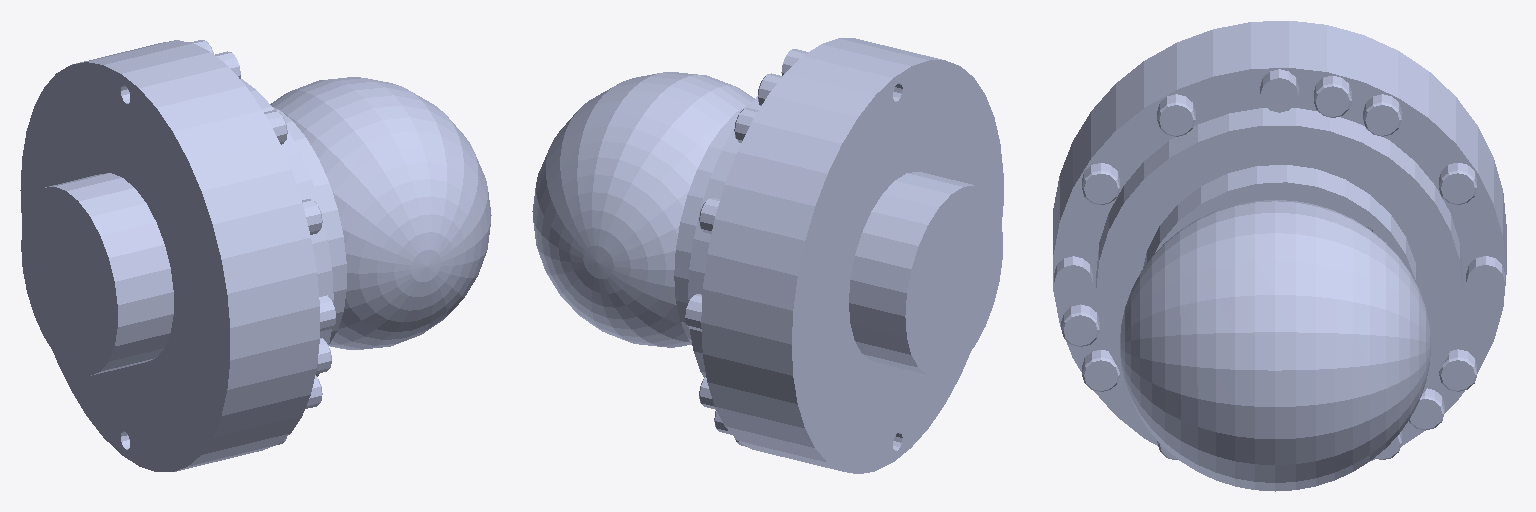
URDF robot description (KR5sixxR650WP_description):
<robot
  name="KR5sixxR650WP_description">
  <link name="world"/>
  <joint name="arm_to_world_fixed" type="fixed">
    <parent link="world"/>
    <child link="base_link"/>
    <origin xyz="0 -0.5 0" rpy="-1.57 0 0" />
  </joint>
  <link
    name="base_link">
    <inertial>
      <origin
        xyz="-0.017519394031846 8.11394768450848E-07 0.0975924044854325"
        rpy="0 0 0" />
      <mass
        value="7.58585707666653" />
      <inertia
        ixx="0.0441803207364147"
        ixy="5.37433593375545E-07"
        ixz="0.004045564920652"
        iyy="0.0584309411563095"
        iyz="-4.8990117845347E-07"
        izz="0.0514875586171667" />
    </inertial>
    <visual>
      <origin
        xyz="0 0 0"
        rpy="0 0 0" />
      <geometry>
        <mesh
          filename="meshes/base_link.STL" />
      </geometry>
      <material
        name="">
        <color
          rgba="0 0 0 1" />
      </material>
    </visual>
    <collision>
      <origin
        xyz="0 0 0"
        rpy="0 0 0" />
      <geometry>
        <mesh
          filename="meshes/base_link.STL" />
      </geometry>
    </collision>
  </link>
  <link
    name="shoulder">
    <inertial>
      <origin
        xyz="0.0359968408135882 -0.00783796591813503 0.0864969937502713"
        rpy="0 0 0" />
      <mass
        value="5.77242340173648" />
      <inertia
        ixx="0.0327019582662897"
        ixy="-0.00189987845379704"
        ixz="0.00937014136132958"
        iyy="0.0373787564144547"
        iyz="-0.00197023031658988"
        izz="0.0348614383349291" />
    </inertial>
    <visual>
      <origin
        xyz="0 0 0"
        rpy="0 0 0" />
      <geometry>
        <mesh
          filename="meshes/shoulder.STL" />
      </geometry>
      <material
        name="">
        <color
          rgba="0.792156862745098 0.819607843137255 0.933333333333333 1" />
      </material>
    </visual>
    <collision>
      <origin
        xyz="0 0 0"
        rpy="0 0 0" />
      <geometry>
        <mesh
          filename="meshes/shoulder.STL" />
      </geometry>
    </collision>
  </link>
  <joint
    name="shoulder_yaw"
    type="revolute">
    <origin
      xyz="0 0 0.203"
      rpy="0 0 0" />
    <parent
      link="base_link" />
    <child
      link="shoulder" />
    <axis
      xyz="0 0 1" />
    <limit
      lower="-2.9671"
      upper="2.9671"
      effort="0"
      velocity="6.545" />
  </joint>
  <link
    name="bicep">
    <inertial>
      <origin
        xyz="0.00610231661046294 0.0401115026555897 0.11531122862673"
        rpy="0 0 0" />
      <mass
        value="4.64974639735464" />
      <inertia
        ixx="0.0663459530931455"
        ixy="0.000173652478770081"
        ixz="0.000586191290902105"
        iyy="0.070407913174161"
        iyz="-0.00203071071007864"
        izz="0.0102816377550493" />
    </inertial>
    <visual>
      <origin
        xyz="0 0 0"
        rpy="0 0 0" />
      <geometry>
        <mesh
          filename="meshes/bicep.STL" />
      </geometry>
      <material
        name="">
        <color
          rgba="0.792156862745098 0.819607843137255 0.933333333333333 1" />
      </material>
    </visual>
    <collision>
      <origin
        xyz="0 0 0"
        rpy="0 0 0" />
      <geometry>
        <mesh
          filename="meshes/bicep.STL" />
      </geometry>
    </collision>
  </link>
  <joint
    name="shoulder_pitch"
    type="revolute">
    <origin
      xyz="0.075 0.0735 0.13"
      rpy="0 0 0" />
    <parent
      link="shoulder" />
    <child
      link="bicep" />
    <axis
      xyz="0 1 0" />
    <limit
      lower="-1.745329252"
      upper="2.35619449"
      effort="0"
      velocity="5.236" />
  </joint>
  <link
    name="elbow">
    <inertial>
      <origin
        xyz="0.00506472105904233 -0.0755031858462784 0.046481517407519"
        rpy="0 0 0" />
      <mass
        value="4.3593398708568" />
      <inertia
        ixx="0.0202008069207718"
        ixy="5.72394748332304E-05"
        ixz="0.000556621203065716"
        iyy="0.0246796752429931"
        iyz="0.000697020296811431"
        izz="0.0178067561136726" />
    </inertial>
    <visual>
      <origin
        xyz="0 0 0"
        rpy="0 0 0" />
      <geometry>
        <mesh
          filename="meshes/elbow.STL" />
      </geometry>
      <material
        name="">
        <color
          rgba="0.792156862745098 0.819607843137255 0.933333333333333 1" />
      </material>
    </visual>
    <collision>
      <origin
        xyz="0 0 0"
        rpy="0 0 0" />
      <geometry>
        <mesh
          filename="meshes/elbow.STL" />
      </geometry>
    </collision>
  </link>
  <joint
    name="elbow_pitch"
    type="revolute">
    <origin
      xyz="0 -0.00549999999999999 0.27"
      rpy="0 0 0" />
    <parent
      link="bicep" />
    <child
      link="elbow" />
    <axis
      xyz="0 1 0" />
    <limit
      lower="-3.647738137"
      upper="0.959931089"
      effort="0"
      velocity="6.545" />
  </joint>
  <link
    name="forearm">
    <inertial>
      <origin
        xyz="0.0857493724873204 -0.00271609825446984 0.00149370513017266"
        rpy="0 0 0" />
      <mass
        value="2.06809715541017" />
      <inertia
        ixx="0.00444943757623485"
        ixy="-0.000424915429214687"
        ixz="-0.000117340671961173"
        iyy="0.00882693069799353"
        iyz="0.000136971152627904"
        izz="0.0101131228921778" />
    </inertial>
    <visual>
      <origin
        xyz="0 0 0"
        rpy="0 0 0" />
      <geometry>
        <mesh
          filename="meshes/forearm.STL" />
      </geometry>
      <material
        name="">
        <color
          rgba="0.792156862745098 0.819607843137255 0.933333333333333 1" />
      </material>
    </visual>
    <collision>
      <origin
        xyz="0 0 0"
        rpy="0 0 0" />
      <geometry>
        <mesh
          filename="meshes/forearm.STL" />
      </geometry>
    </collision>
  </link>
  <joint
    name="elbow_roll"
    type="revolute">
    <origin
      xyz="0.10599996023205 -0.0680006418263501 0.0900000000000001"
      rpy="0 0 0" />
    <parent
      link="elbow" />
    <child
      link="forearm" />
    <axis
      xyz="1 0 0" />
    <limit
      lower="-3.3161"
      upper="3.3161"
      effort="0"
      velocity="7.1558" />
  </joint>
  <link
    name="wrist">
    <inertial>
      <origin
        xyz="0.0056566550065284 0.029516726474605 0"
        rpy="0 0 0" />
      <mass
        value="0.328309098974388" />
      <inertia
        ixx="0.000221789219477276"
        ixy="-9.59628913869705E-07"
        ixz="1.40395663663479E-20"
        iyy="0.000321152451627032"
        iyz="-4.44973606670705E-20"
        izz="0.000275966419870925" />
    </inertial>
    <visual>
      <origin
        xyz="0 0 0"
        rpy="0 0 0" />
      <geometry>
        <mesh
          filename="meshes/wrist.STL" />
      </geometry>
      <material
        name="">
        <color
          rgba="0.792156862745098 0.819607843137255 0.933333333333333 1" />
      </material>
    </visual>
    <collision>
      <origin
        xyz="0 0 0"
        rpy="0 0 0" />
      <geometry>
        <mesh
          filename="meshes/wrist.STL" />
      </geometry>
    </collision>
  </link>
  <joint
    name="wrist_pitch"
    type="revolute">
    <origin
      xyz="0.187000000000001 -0.0289999999999998 0"
      rpy="0 0 0" />
    <parent
      link="forearm" />
    <child
      link="wrist" />
    <axis
      xyz="0 1 0" />
    <limit
      lower="-2.094395102"
      upper="2.094395102"
      effort="0"
      velocity="7.1558" />
  </joint>
  <link
    name="palm">
    <inertial>
      <origin
        xyz="0.00983949894991115 -2.78372724487979E-05 -1.11022302462516E-15"
        rpy="0 0 0" />
      <mass
        value="0.0789494717998531" />
      <inertia
        ixx="3.53285039019399E-05"
        ixy="-3.23299732456798E-08"
        ixz="-6.9643163510009E-19"
        iyy="2.30177957763861E-05"
        iyz="-9.26550270485857E-19"
        izz="2.28539400944714E-05" />
    </inertial>
    <visual>
      <origin
        xyz="-0.01 -0.032 -0.032"
        rpy="0 0 0" />
      <geometry>
        <mesh
          filename="meshes/palm2.STL" />
      </geometry>
      <material
        name="">
        <color
          rgba="0.792156862745098 0.819607843137255 0.933333333333333 0.1" />
      </material>
    </visual>
    <collision>
      <origin
        xyz="-0.01 -0.032 -0.032"
        rpy="0 0 0" />
      <geometry>
        <mesh
          filename="meshes/palm2.STL" />
      </geometry>
    </collision>
  </link>
  <joint
    name="wrist_roll"
    type="revolute">
    <origin
      xyz="0.0519999999999999 0.0289999999999996 0"
      rpy="0 0 0" />
    <parent
      link="wrist" />
    <child
      link="palm" />
    <axis
      xyz="1 0 0" />
    <limit
      lower="-6.24827872"
      upper="6.24827872"
      effort="0"
      velocity="11.5191731" />
  </joint>
</robot>

--- What the picture shows (computed from the rendered views, not written in the file) ---
3 views of the same robot in one strip: view 1: azimuth 30°, elevation 25°; view 2: azimuth 150°, elevation 25°; view 3: azimuth 270°, elevation 25° (orthographic).
Model KR5sixxR650WP_description with 8 links and 7 joints (6 revolute, 1 fixed), rooted at world, posed every joint at zero.
Visible links, largest first — view 1: palm; view 2: palm; view 3: palm.
Link boxes in pixels (x1,y1,x2,y2): palm: (20,40,491,471); palm: (532,38,1003,473); palm: (1053,21,1506,491).
Size in the robot's own frame: 0.0713 by 0.0649 by 0.0649 metres.
1 mesh visuals loaded from 7 distinct referenced files (1 ASCII STL); not drawn: 6 (file found but could not be loaded).